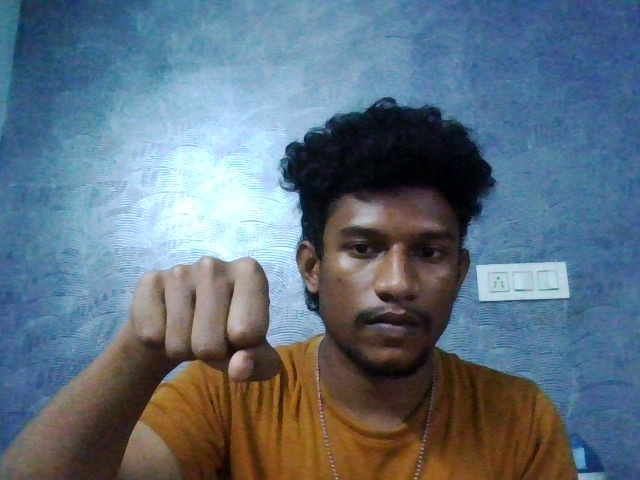yes: (108, 247, 303, 417)
